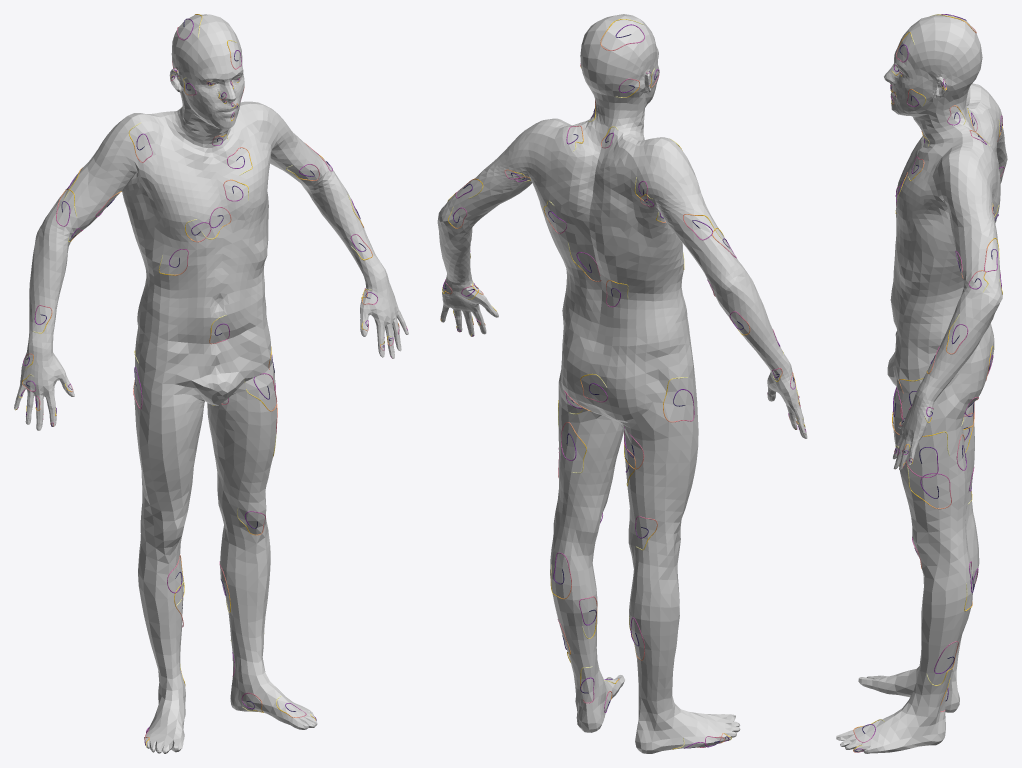
Rendered from body_ours_l1_spiral_repositioned.glb.
3 views of the same model, side by side, from view 1: azimuth 30°, elevation 25°; view 2: azimuth 150°, elevation 25°; view 3: azimuth 270°, elevation 25° (orthographic). The views are drawn at different scales.
Visible parts, largest first — view 1: imagetostl_mesh0; view 2: imagetostl_mesh0; view 3: imagetostl_mesh0.
Part boxes in pixels (<box>): imagetostl_mesh0: <box>14,14,408,753</box>; imagetostl_mesh0: <box>437,14,807,753</box>; imagetostl_mesh0: <box>836,14,1007,753</box>.
Bounding box in the file's own units: 1 × 1.79 × 0.3908.
